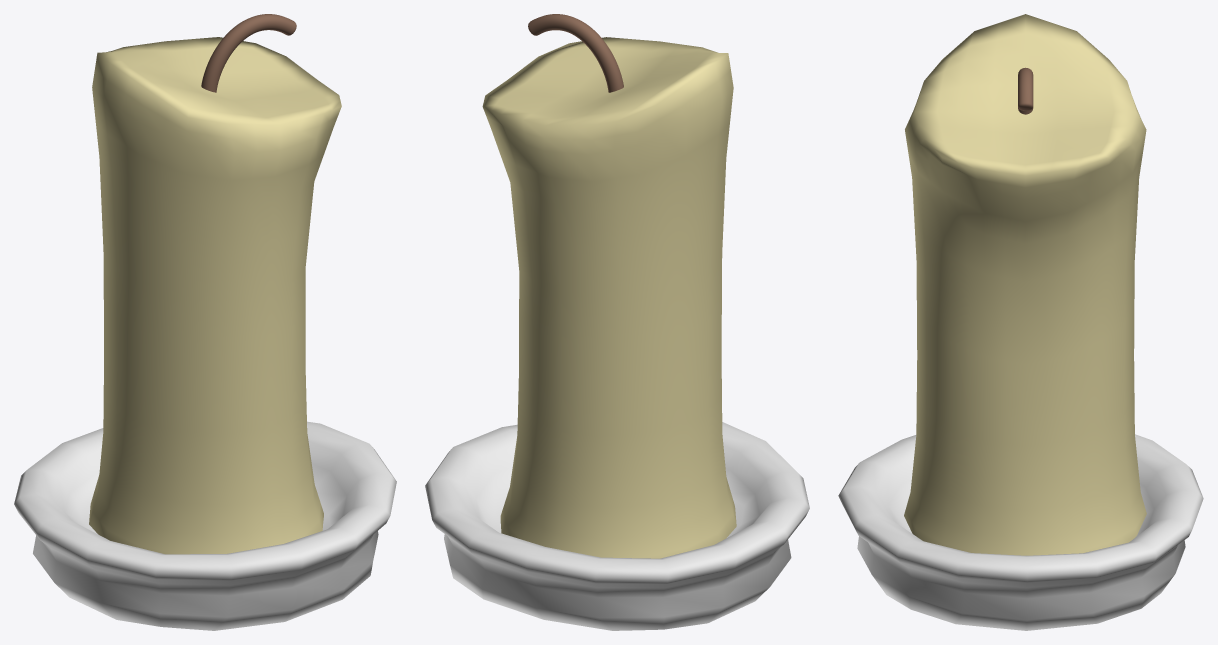
Rendered from candleiso.glb.
The picture shows the model from 3 angles, left to right: view 1: azimuth 30°, elevation 25°; view 2: azimuth 150°, elevation 25°; view 3: azimuth 270°, elevation 25°; orthographic projection. The views are drawn at different scales.
Visible parts, largest first — view 1: wax.006, holder.006, wick; view 2: wax.006, holder.006, wick; view 3: wax.006, holder.006, wick.
Part boxes in pixels (<box>): wax.006: <box>89,37,341,554</box>; holder.006: <box>14,421,396,630</box>; wick: <box>201,14,296,92</box>; wax.006: <box>482,37,736,558</box>; holder.006: <box>425,422,809,630</box>; wick: <box>528,14,623,92</box>; wax.006: <box>904,14,1146,555</box>; holder.006: <box>838,434,1203,630</box>; wick: <box>1018,67,1033,114</box>.
Size of the model in its own units: 1.35 by 2.07 by 1.3.
